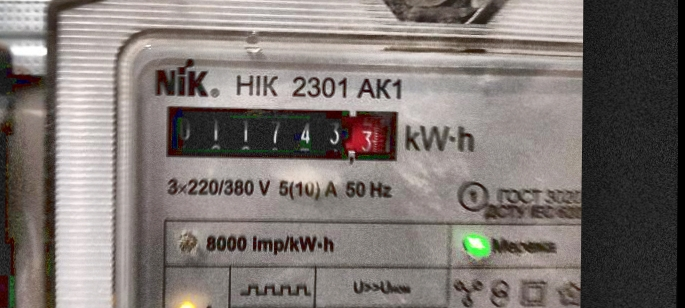0: (177, 115, 192, 143)
1: (238, 115, 251, 143), (209, 115, 220, 142)
3: (327, 119, 342, 146), (358, 128, 373, 154)
4: (297, 119, 312, 146)
7: (267, 116, 283, 144)
screen: (155, 95, 409, 172)
